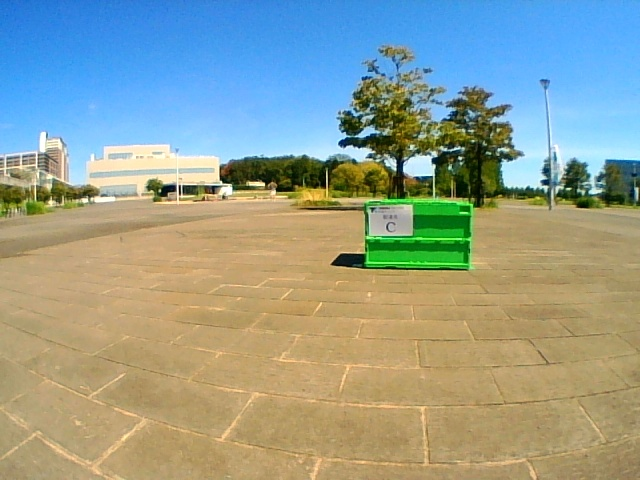green_box: (365, 198, 472, 270)
tag_c: (369, 206, 413, 236)
